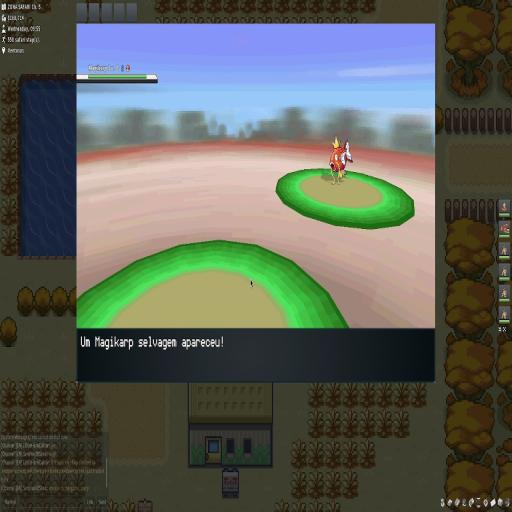MAGIKARP: (329, 138, 353, 184)
